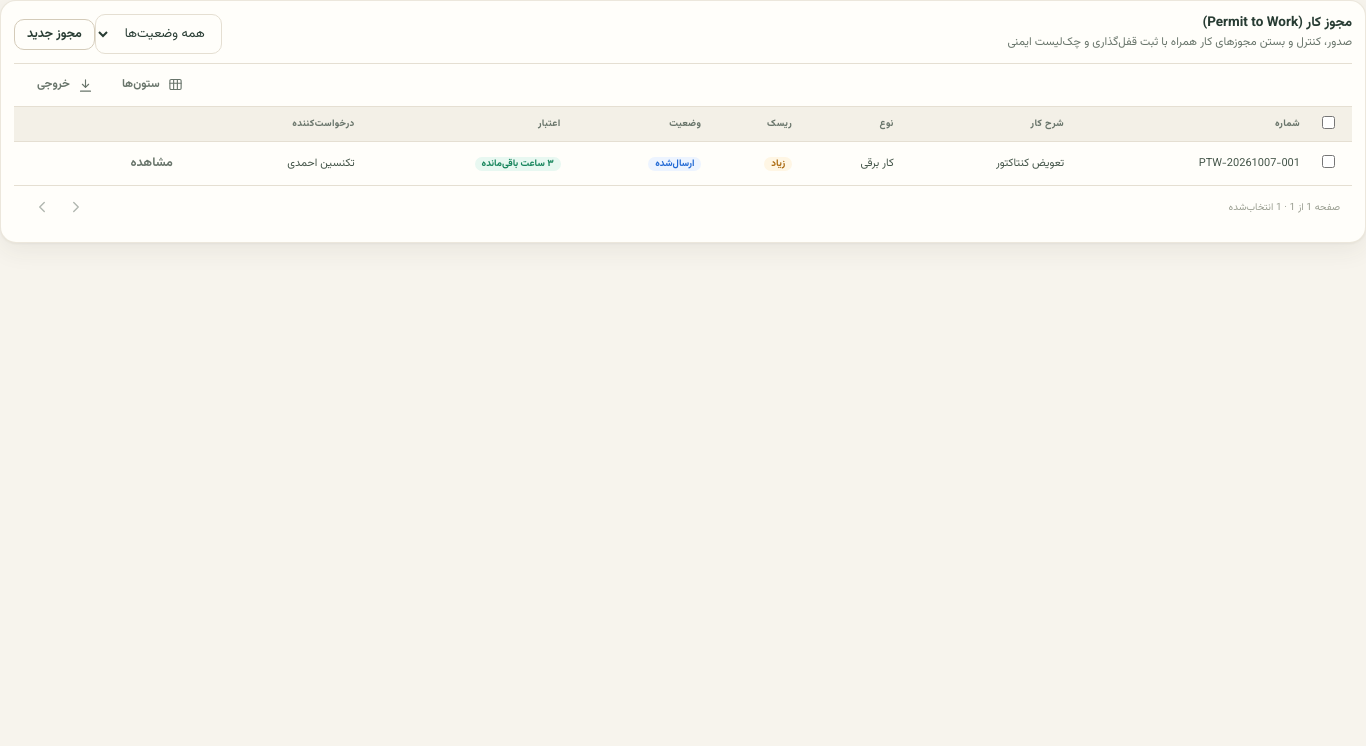
permit to work page › shows every outstanding blocker at once rather than one at a time
This screenshot has width=1366, height=746.
Click the button "مشاهده" at (152,163), box [118,148,186,179]
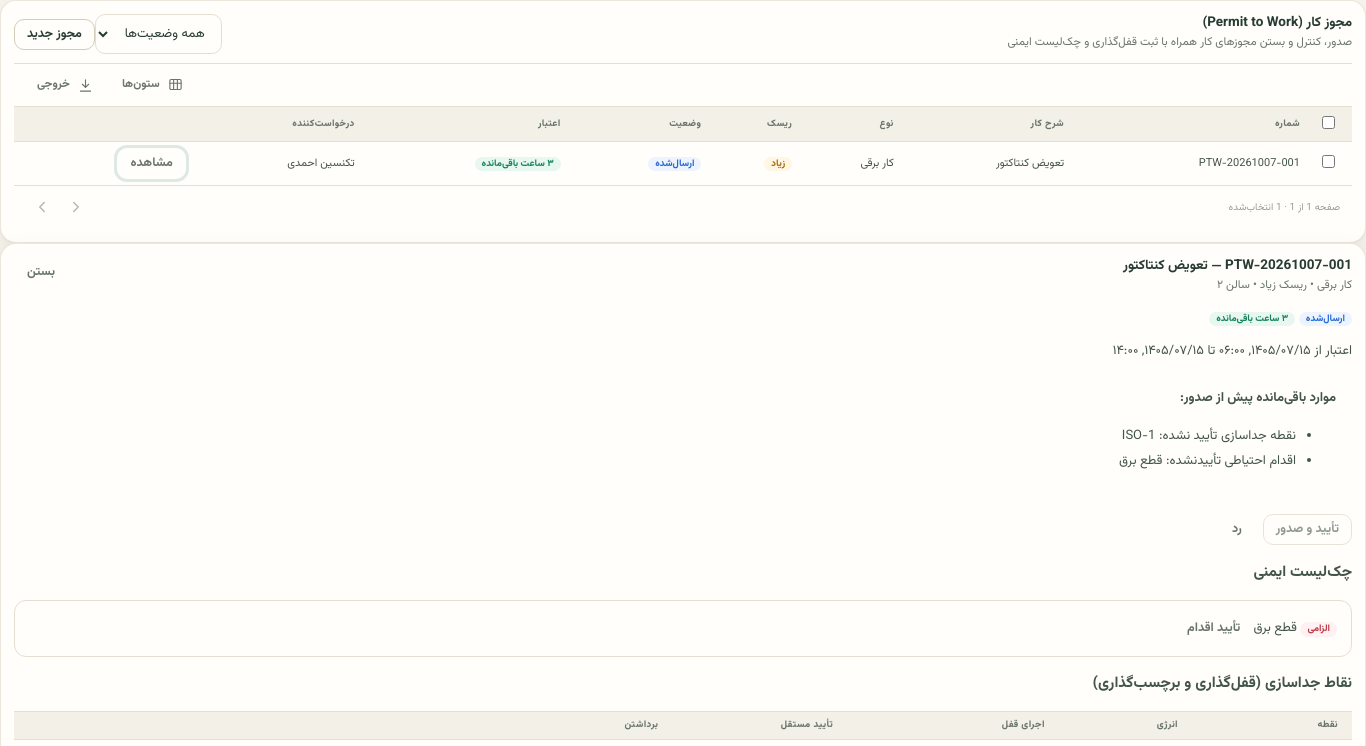
Now the list item "نقطه جداسازی تأیید نشده: ISO-1" is shown, box [1122,426,1296,446]
Now the list item "اقدام احتیاطی تأییدنشده: قطع برق" is shown, box [1119,450,1296,470]
